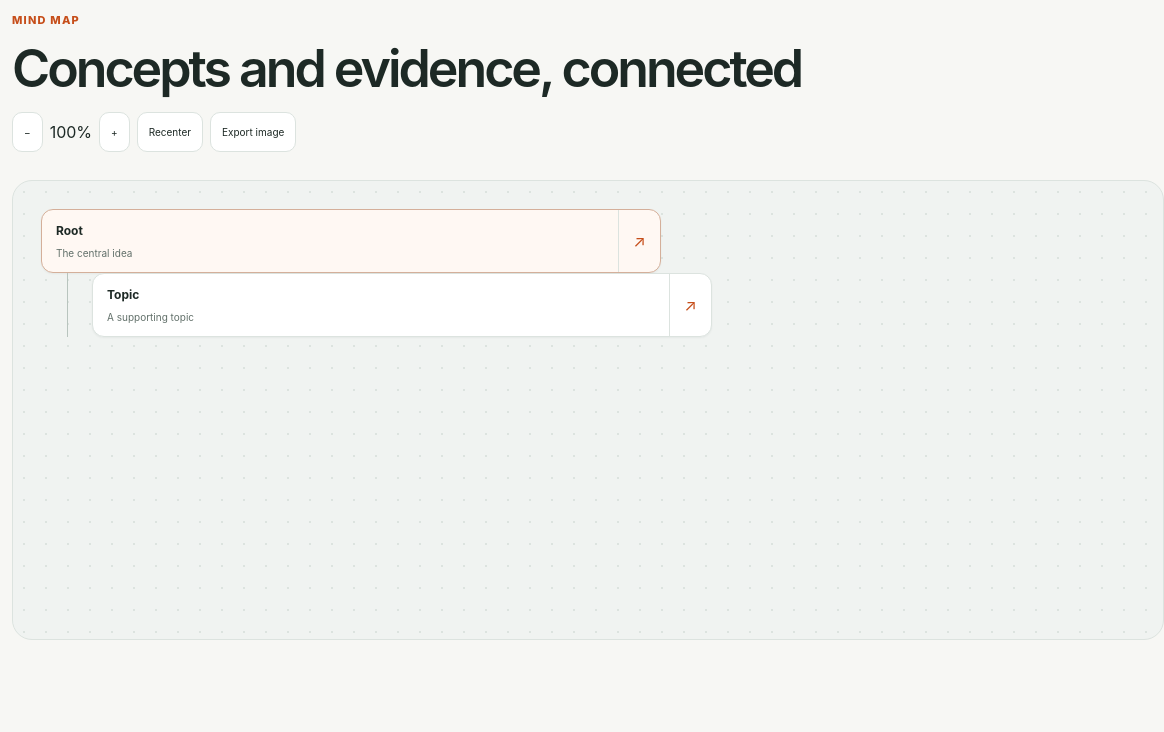
Test: structured artifact views › offers an accessible mobile-safe mind map tree with collapse and recenter
Expected: the list is shown, [41,209,1135,337]
Expected: the number of list items is 2, [41,209,1135,337]; [92,273,712,337]
Click the button "Root The central idea" at (94, 253), box [42,210,618,272]
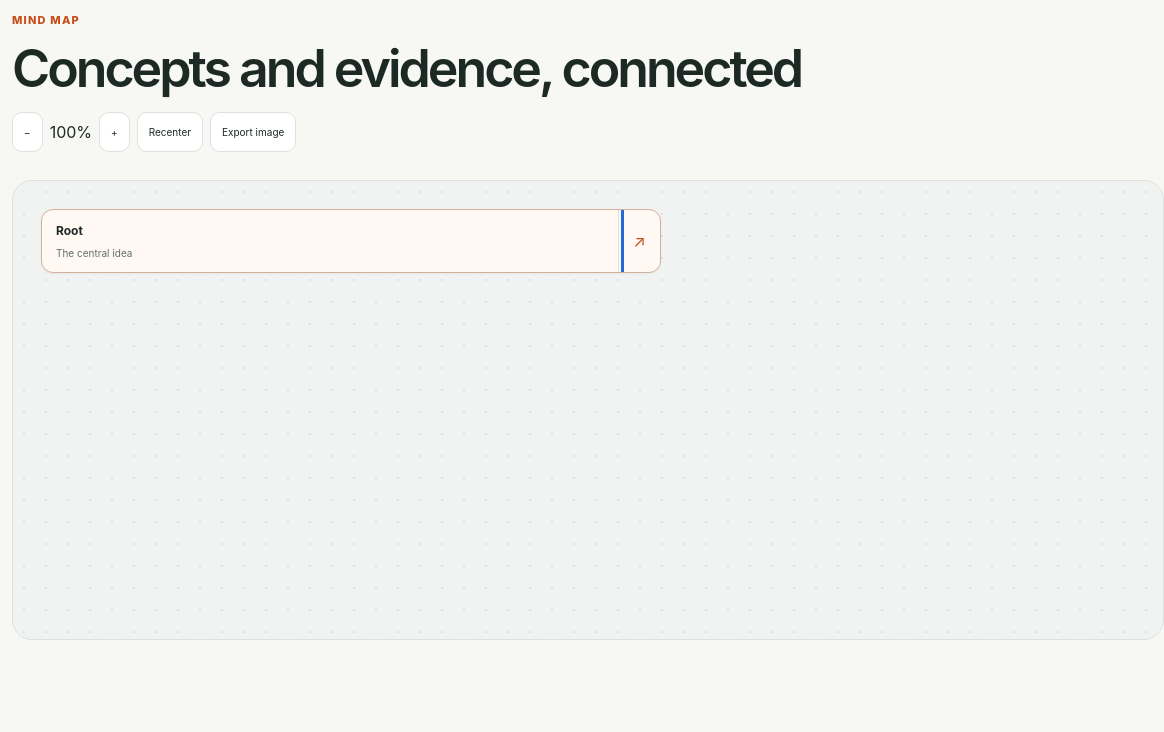
Now the number of list items is 1, box [41,209,661,273]
Click the button "Recenter" at (170, 132), box [137,112,203,152]
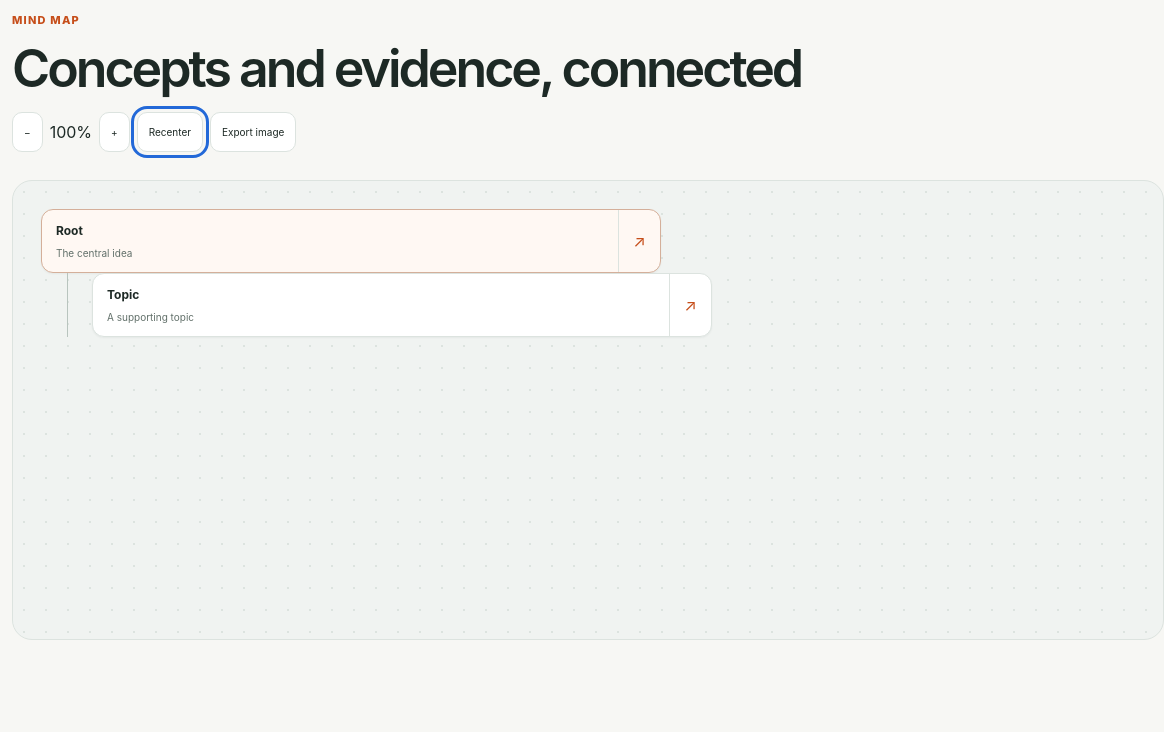
Now the number of list items is 2, box [41,209,1135,337]; [92,273,712,337]
